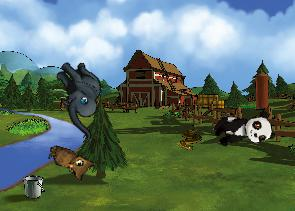elephant: (35, 53, 124, 141)
owl: (43, 144, 95, 183)
panda: (211, 109, 275, 150)
